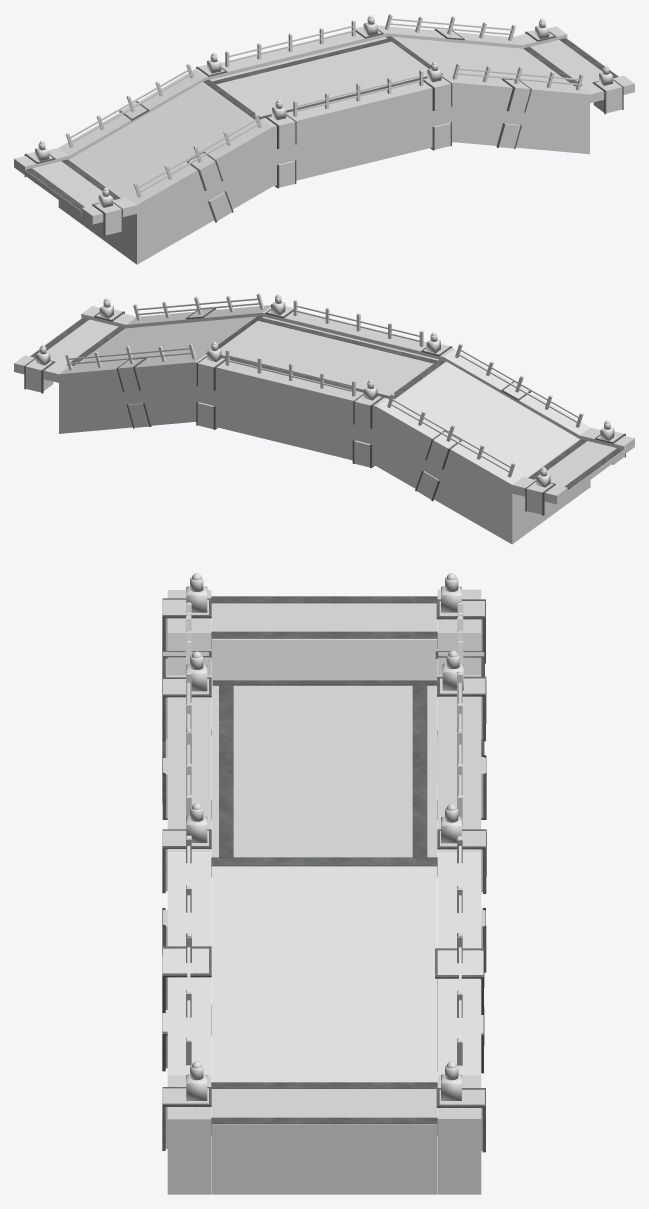
Rendered from Bridge.fbx.
3 views of the same model, one above another, from view 1: azimuth 30°, elevation 25°; view 2: azimuth 150°, elevation 25°; view 3: azimuth 270°, elevation 25° (orthographic). The views are drawn at different scales.
Visible parts, largest first — view 1: Cube.019; view 2: Cube.019; view 3: Cube.019.
Part boxes in pixels (x1,y1,x2,y2): Cube.019: (14,14,634,264); Cube.019: (14,293,634,544); Cube.019: (162,573,486,1194).
Size of the model in its own units: 11991 by 2602 by 3103.
